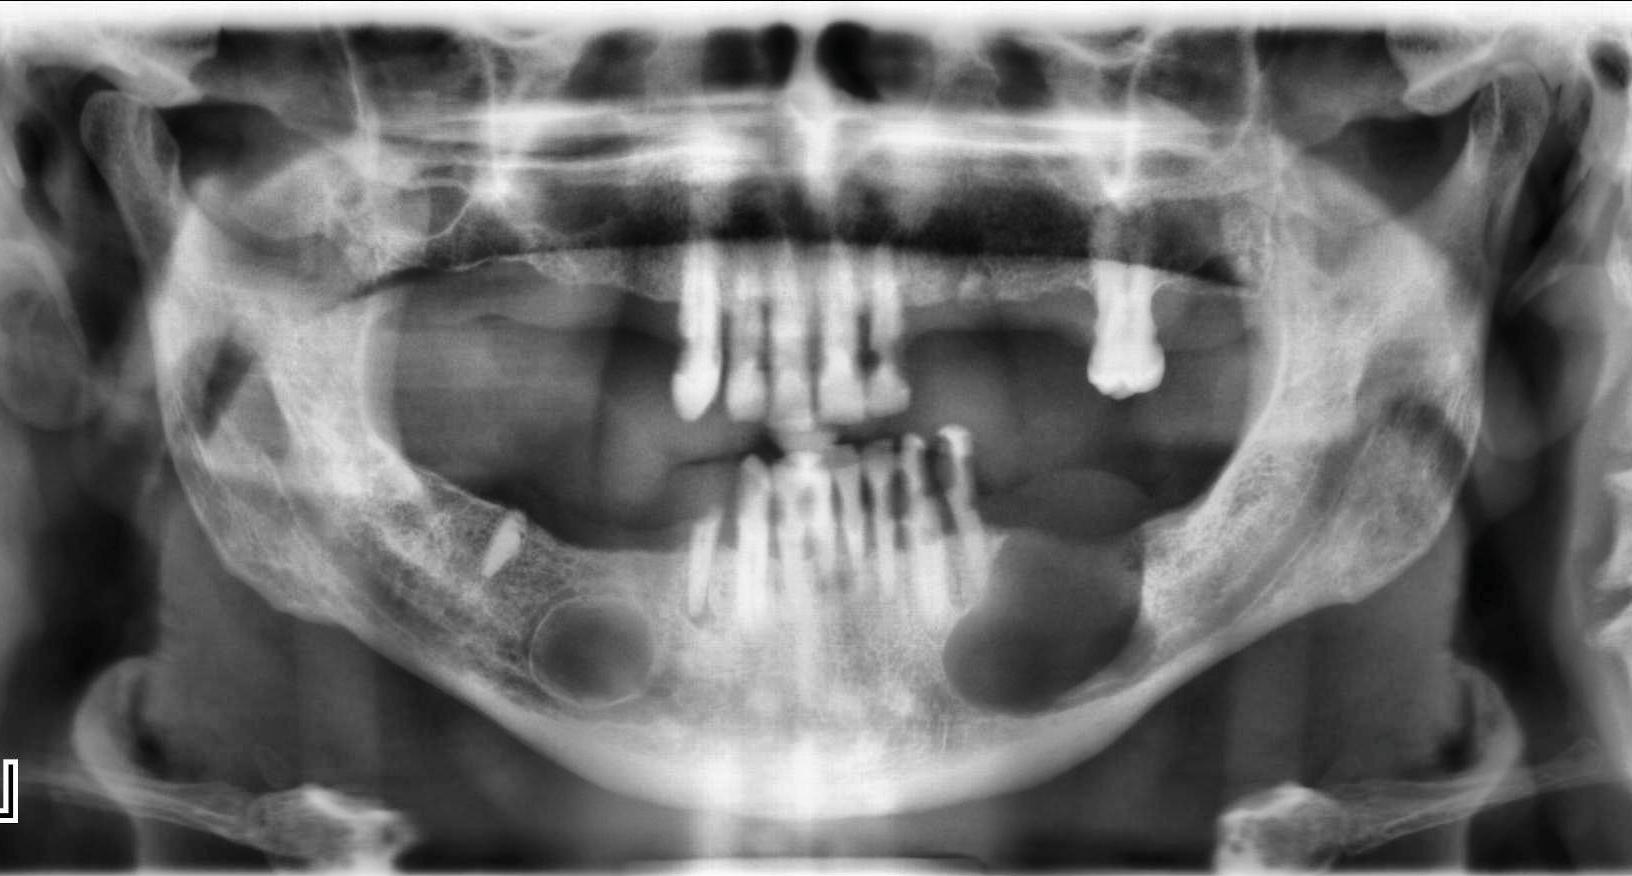radikuler: (941, 465, 1144, 723), (527, 593, 658, 710)
